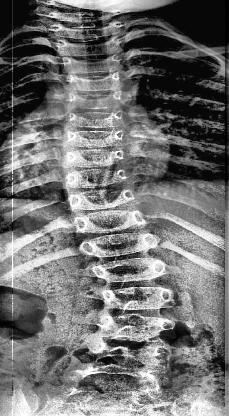Vertebrae: (95, 312, 177, 342), (77, 231, 168, 257), (85, 257, 175, 283), (101, 285, 181, 311), (72, 209, 150, 233), (64, 128, 132, 150), (52, 38, 126, 56), (62, 168, 130, 187), (64, 190, 144, 206), (65, 110, 131, 128), (61, 92, 125, 110), (60, 56, 124, 74), (46, 23, 126, 37), (62, 150, 130, 166), (66, 74, 124, 92)
